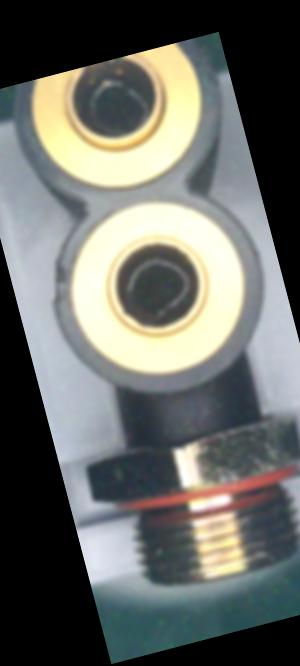bump: (185, 35, 228, 98), (34, 252, 77, 314)
joint line: (178, 390, 195, 422)
off-centered: (71, 66, 161, 149), (115, 245, 201, 329)
